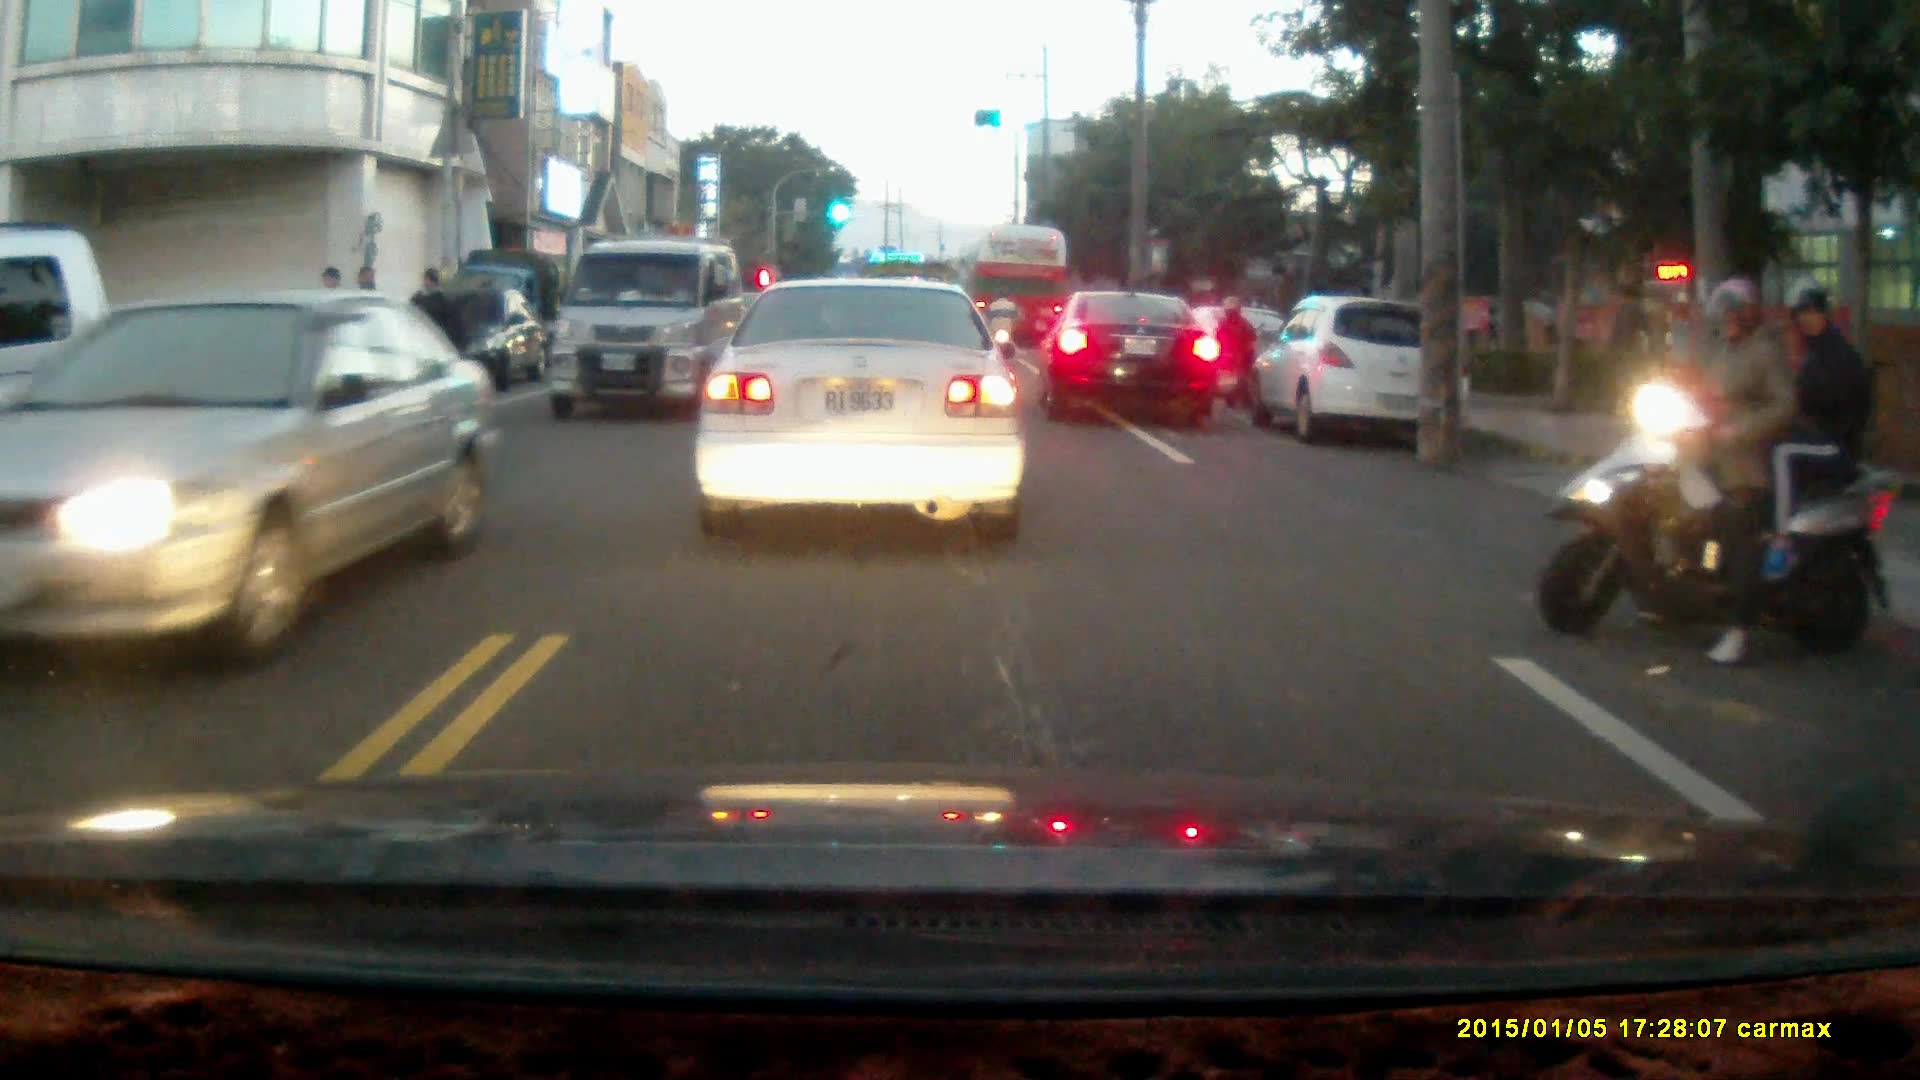pedestrian: (399, 266, 456, 413), (1607, 285, 1660, 416)
rider: (1538, 279, 1888, 673), (1211, 294, 1262, 411), (982, 289, 1021, 368)
vehicle: (1, 291, 518, 683), (691, 276, 1030, 549), (9, 302, 258, 477), (546, 238, 750, 424), (1, 225, 129, 513), (1246, 296, 1472, 445), (1039, 296, 1227, 433), (972, 224, 1072, 366)
